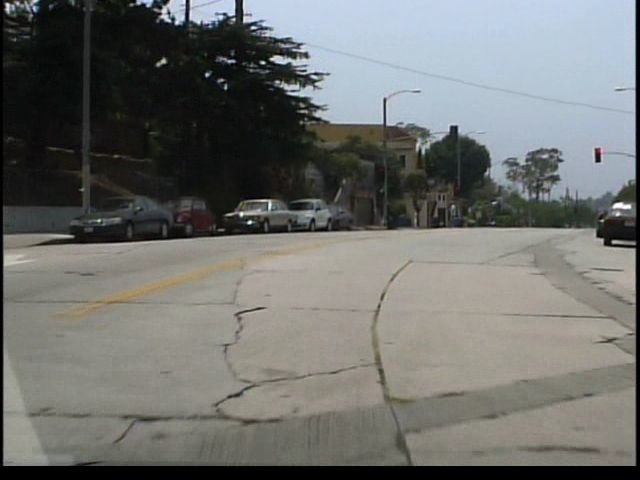person: (452, 203, 462, 230)
